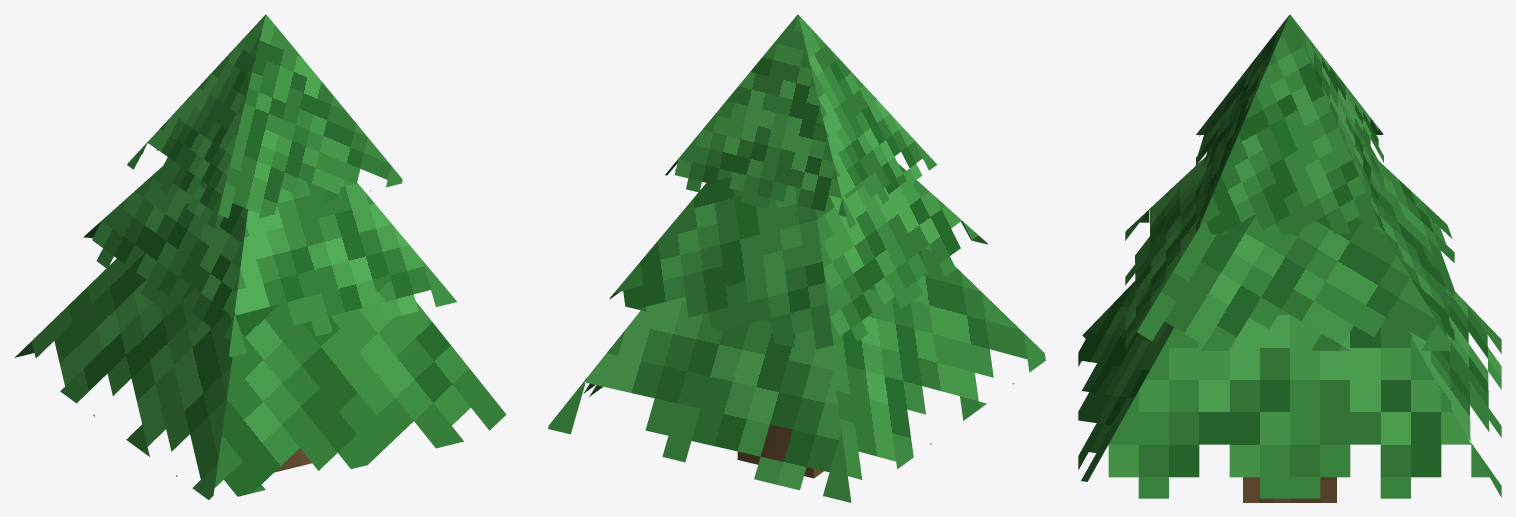
The model's file is xmas_tree.glb.
The picture shows the model from 3 angles, left to right: view 1: azimuth 30°, elevation 25°; view 2: azimuth 150°, elevation 25°; view 3: azimuth 270°, elevation 25°; orthographic projection. The views are drawn at different scales.
Visible parts, largest first — view 1: tree_layer_2, tree_layer.002_0, tree_layer.001_3; view 2: tree_layer_2, tree_layer.002_0, tree_layer.001_3, wood_1; view 3: tree_layer_2, tree_layer.002_0, tree_layer.001_3, wood_1.
Part boxes in pixels (x1,y1,x2,y2): tree_layer_2: (14, 245, 506, 499); tree_layer.002_0: (83, 166, 456, 357); tree_layer.001_3: (127, 14, 402, 228); tree_layer_2: (548, 245, 1045, 502); tree_layer.002_0: (609, 163, 987, 349); tree_layer.001_3: (665, 14, 937, 228); wood_1: (737, 424, 823, 478); tree_layer_2: (1078, 280, 1501, 498); tree_layer.002_0: (1125, 156, 1454, 350); tree_layer.001_3: (1196, 14, 1383, 234); wood_1: (1243, 477, 1336, 502).
Bounding box in the file's own units: 1 × 1.38 × 1.12.
4 materials, 3 textured.
